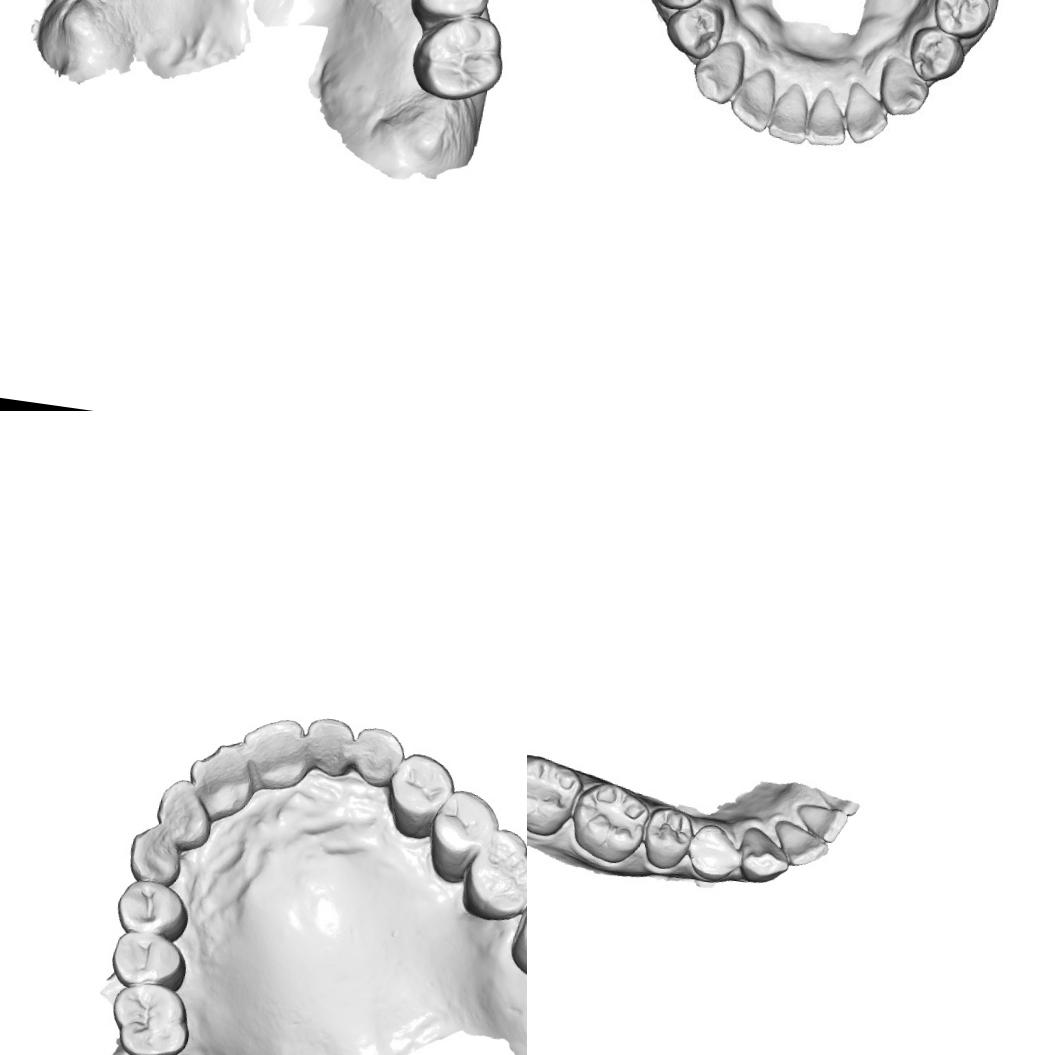canine: (125, 822, 190, 890), (348, 722, 406, 790), (732, 824, 794, 887), (880, 55, 929, 114), (694, 46, 742, 105)
incisor: (181, 734, 258, 822), (235, 710, 312, 796), (150, 774, 218, 852), (299, 712, 360, 779), (768, 817, 832, 871), (728, 67, 780, 132), (842, 83, 893, 145), (804, 87, 851, 147), (764, 84, 812, 142), (793, 802, 850, 846)
molar: (406, 7, 509, 109), (566, 776, 654, 868), (458, 822, 527, 928), (103, 978, 195, 1055), (527, 750, 587, 842), (507, 879, 527, 988)
premolar: (429, 786, 502, 866), (385, 748, 460, 824), (110, 876, 193, 944), (107, 928, 190, 990), (640, 802, 698, 873), (685, 820, 742, 886), (665, 3, 723, 60), (928, 0, 996, 40), (915, 24, 963, 78), (411, 0, 493, 29)
